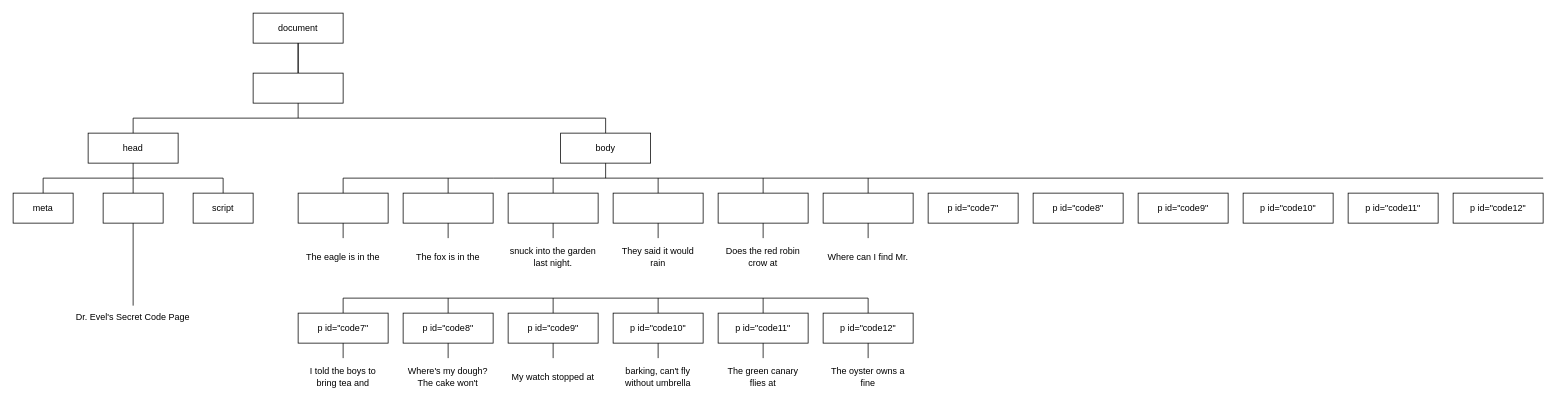
Image size: 1557x409. Some labels were removed from this diagram. The shapes that lost their labels are listed below. From the top down, each one's centre as x and y in pixels, then its label:
(x=297, y=87): html
(x=132, y=207): title
(x=342, y=207): p id="code1"
(x=447, y=207): p id="code2"
(x=552, y=207): p id="code3"
(x=657, y=207): p id="code4"
(x=762, y=207): p id="code5"
(x=867, y=207): p id="code6"
